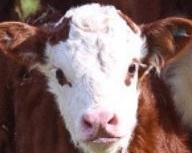muzzles: (74, 108, 123, 150)
